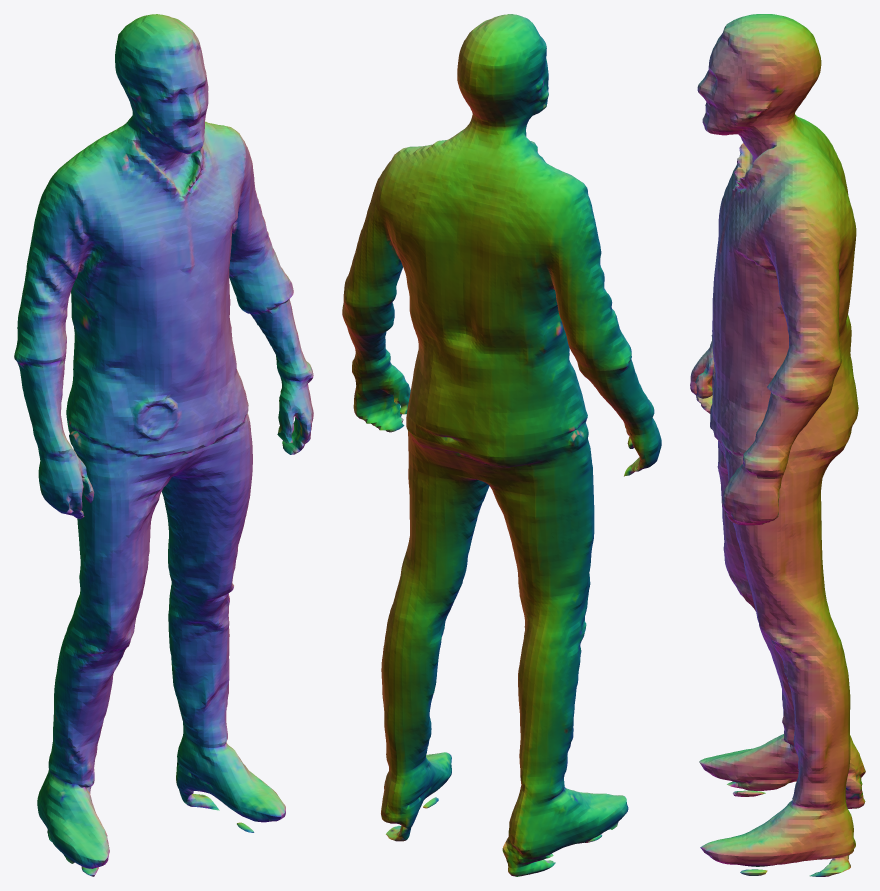
Rendered from result_man 2_256.obj.
3 renders of one model, left to right at view 1: azimuth 30°, elevation 25°; view 2: azimuth 150°, elevation 25°; view 3: azimuth 270°, elevation 25°, orthographic. The views are drawn at different scales.
Size of the model in its own units: 0.6587 by 1.81 by 0.3523.
